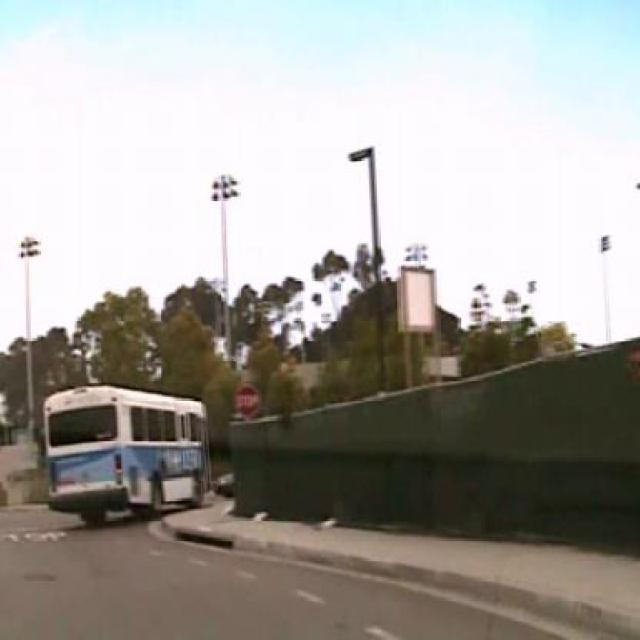stop: (235, 383, 260, 419)
